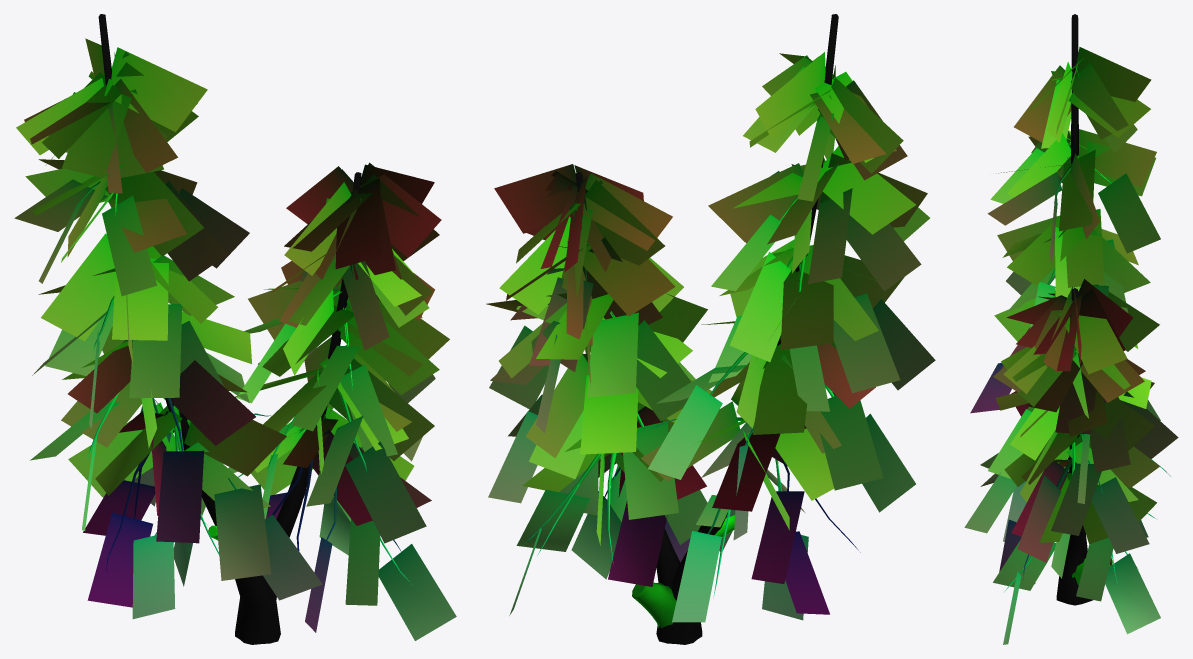
The model's file is M_Pine_3_10.fbx.
3 renders of one model, left to right at view 1: azimuth 30°, elevation 25°; view 2: azimuth 150°, elevation 25°; view 3: azimuth 270°, elevation 25°, orthographic. The views are drawn at different scales.
Parts seen in each view (by area): view 1: Tree_10; view 2: Tree_10; view 3: Tree_10.
Boxes of the visible parts, bbox=[...] form: Tree_10: bbox=[14, 14, 456, 644]; Tree_10: bbox=[486, 14, 935, 644]; Tree_10: bbox=[964, 14, 1178, 644].
Bounding box in the file's own units: 2366 × 3589 × 1327.
